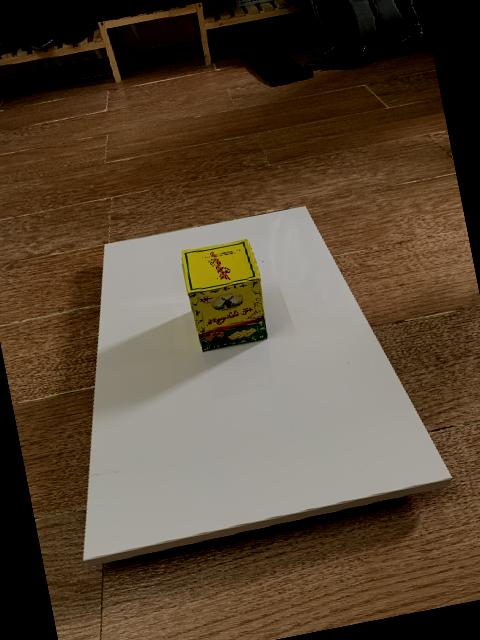luong_kho: (181, 238, 268, 353)
